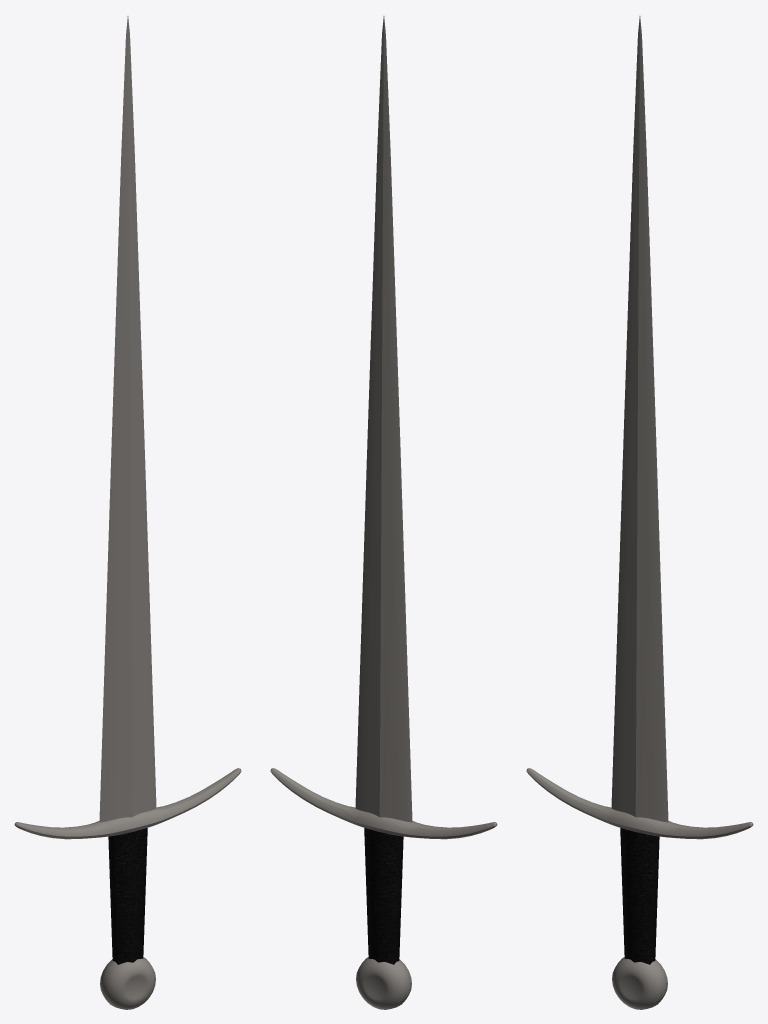
The model's file is arming_sword.gltf.
The picture shows the model from 3 angles, left to right: view 1: azimuth 30°, elevation 25°; view 2: azimuth 150°, elevation 25°; view 3: azimuth 330°, elevation 25°; orthographic projection.
Visible parts, largest first — view 1: Plane, Cylinder, Cylinder.001, Cylinder.002; view 2: Plane, Cylinder, Cylinder.001, Cylinder.002; view 3: Plane, Cylinder, Cylinder.001, Cylinder.002.
Boxes of the visible parts, x1,y1,x2,y2 form: Plane: (99, 16, 156, 822); Cylinder: (108, 828, 147, 964); Cylinder.001: (14, 768, 241, 839); Cylinder.002: (100, 957, 155, 1009); Plane: (355, 16, 412, 822); Cylinder: (364, 828, 403, 964); Cylinder.001: (270, 768, 497, 839); Cylinder.002: (356, 957, 411, 1009); Plane: (611, 16, 668, 822); Cylinder: (620, 828, 659, 964); Cylinder.001: (526, 768, 753, 839); Cylinder.002: (612, 957, 667, 1009).
Size of the model in its own units: 0.1917 by 0.8061 by 0.0245.
Materials: 1 (1 with a texture image).
